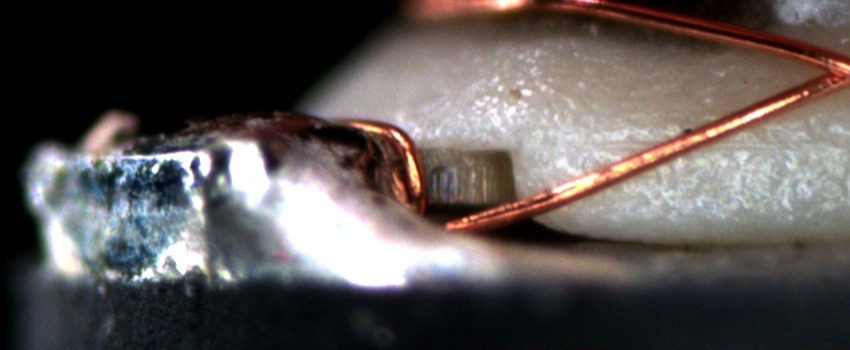CL: (793, 45, 850, 98)
DL: (597, 113, 850, 172)
TE: (332, 112, 429, 225)
